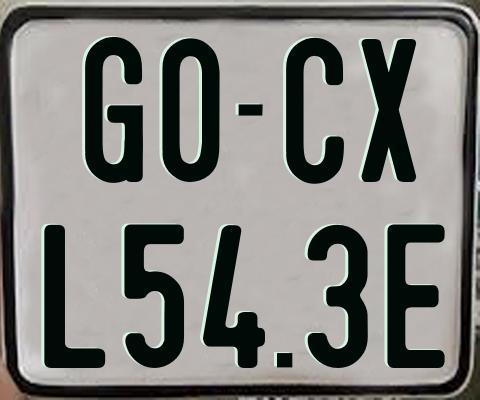0: (160, 36, 223, 184)
3: (308, 222, 371, 366)
4: (200, 224, 266, 373)
5: (122, 223, 182, 367)
C: (286, 38, 348, 186)
E: (386, 221, 449, 365)
G: (82, 37, 146, 187)
L: (43, 222, 105, 371)
X: (360, 39, 421, 187)
